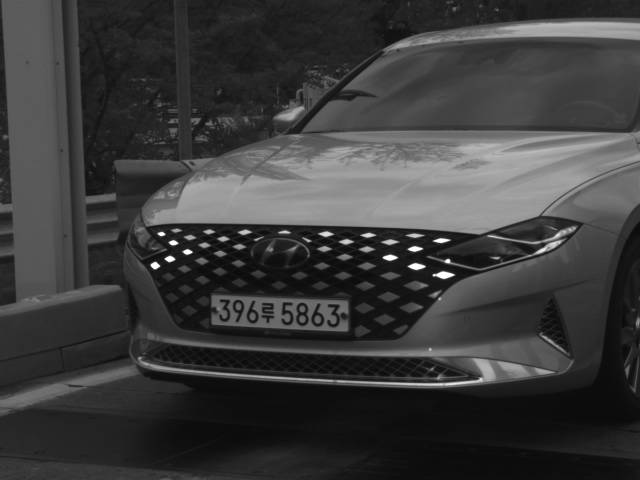car: (118, 15, 640, 421)
plate: (209, 292, 352, 335)
